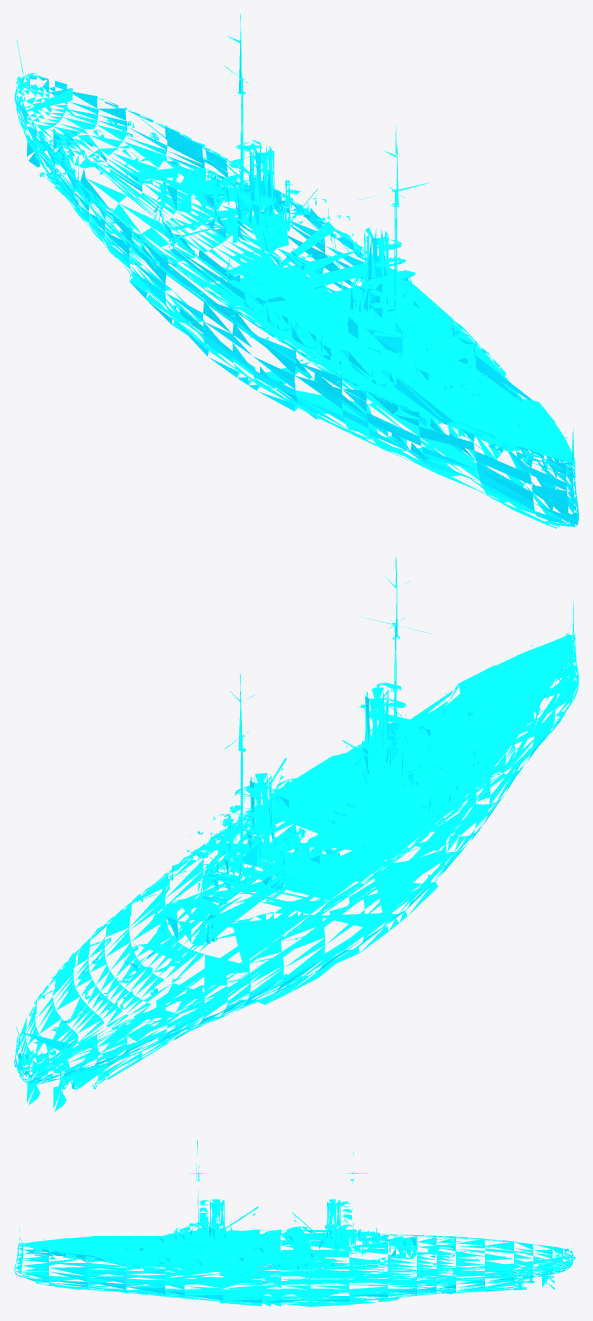
File: Koenig_Albert.glb
3 views of the same model, one above another, from view 1: azimuth 30°, elevation 25°; view 2: azimuth 150°, elevation 25°; view 3: azimuth 270°, elevation 25° (orthographic). The views are drawn at different scales.
Size of the model in its own units: 1.97 by 3.4 by 11.66.
